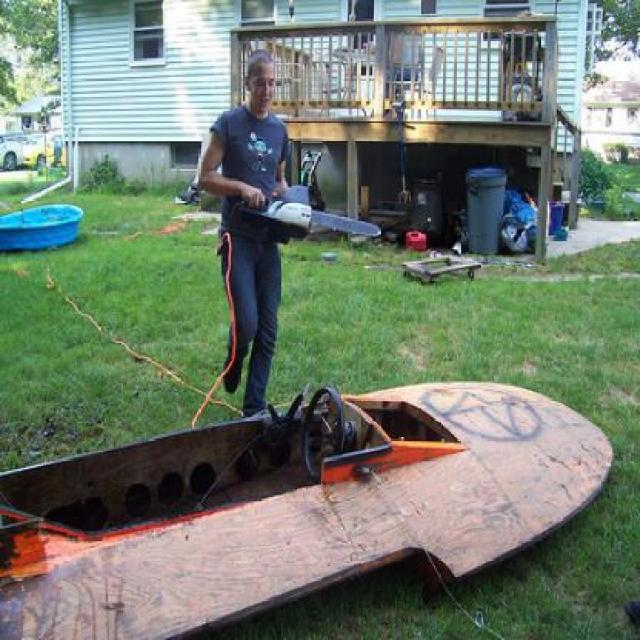Chainsaw: (228, 182, 383, 250)
